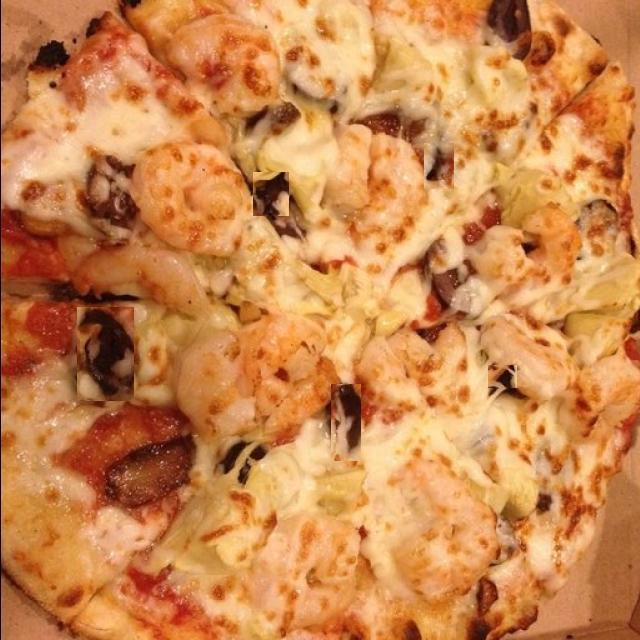olive: (76, 307, 133, 401), (488, 0, 532, 66), (216, 438, 270, 488), (330, 384, 360, 461), (252, 172, 288, 216), (423, 143, 453, 189), (487, 365, 516, 388)
pizza: (1, 1, 636, 640)
